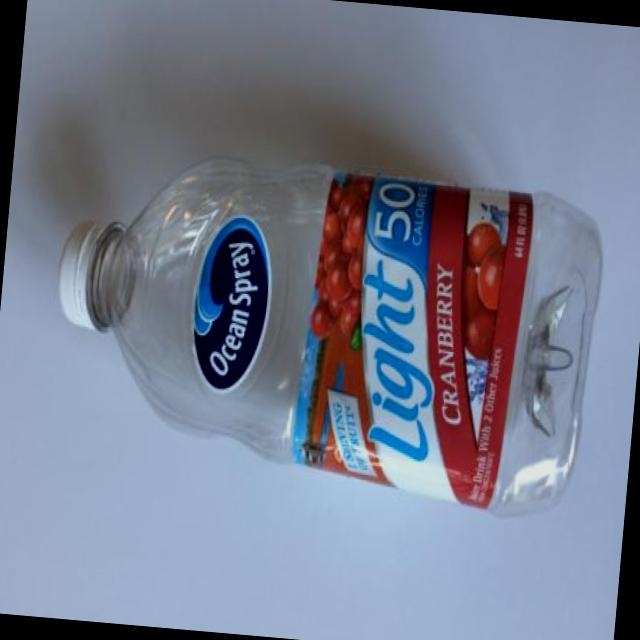Recycle: (41, 144, 611, 524)
